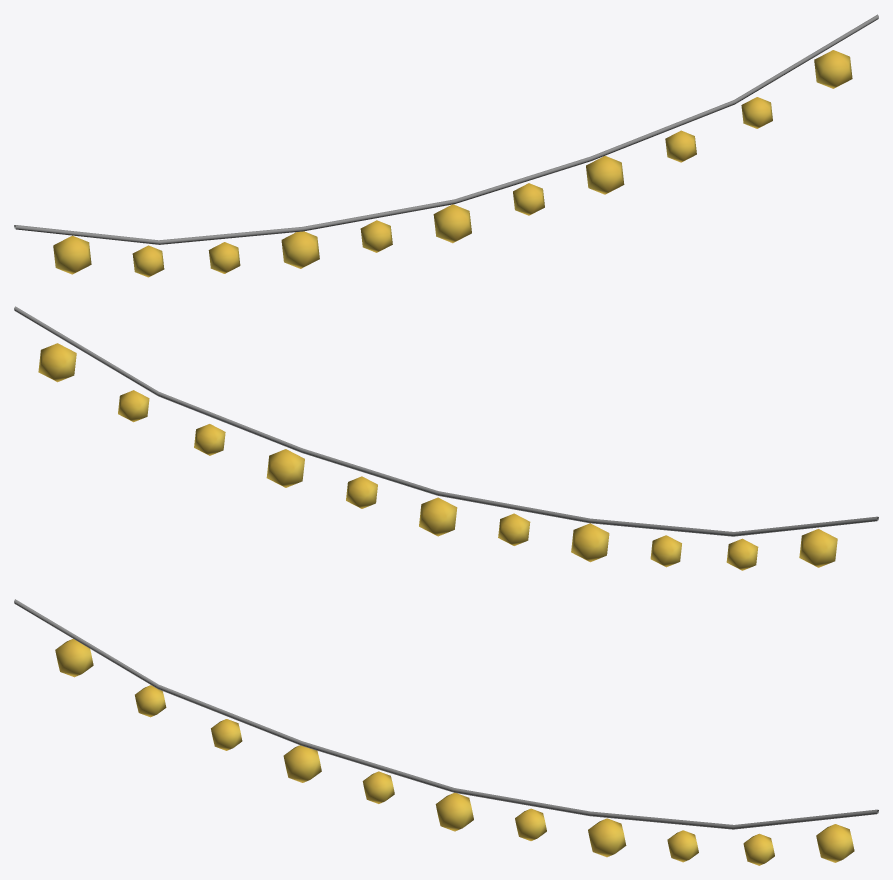
The model's file is pref_sm_city_light02_snow_lv3.fbx.
3 views of the same model, one above another, from view 1: azimuth 30°, elevation 25°; view 2: azimuth 150°, elevation 25°; view 3: azimuth 330°, elevation 25° (orthographic).
Visible parts, largest first — view 1: pref_sm_city_light02_snow_lv3; view 2: pref_sm_city_light02_snow_lv3; view 3: pref_sm_city_light02_snow_lv3.
Part boxes in pixels (box(x1,y1,x2,y2)): pref_sm_city_light02_snow_lv3: box(14, 14, 878, 277); pref_sm_city_light02_snow_lv3: box(14, 306, 878, 570); pref_sm_city_light02_snow_lv3: box(14, 599, 878, 865).
Size of the model in its own units: 7.28 by 1.02 by 0.2686.
